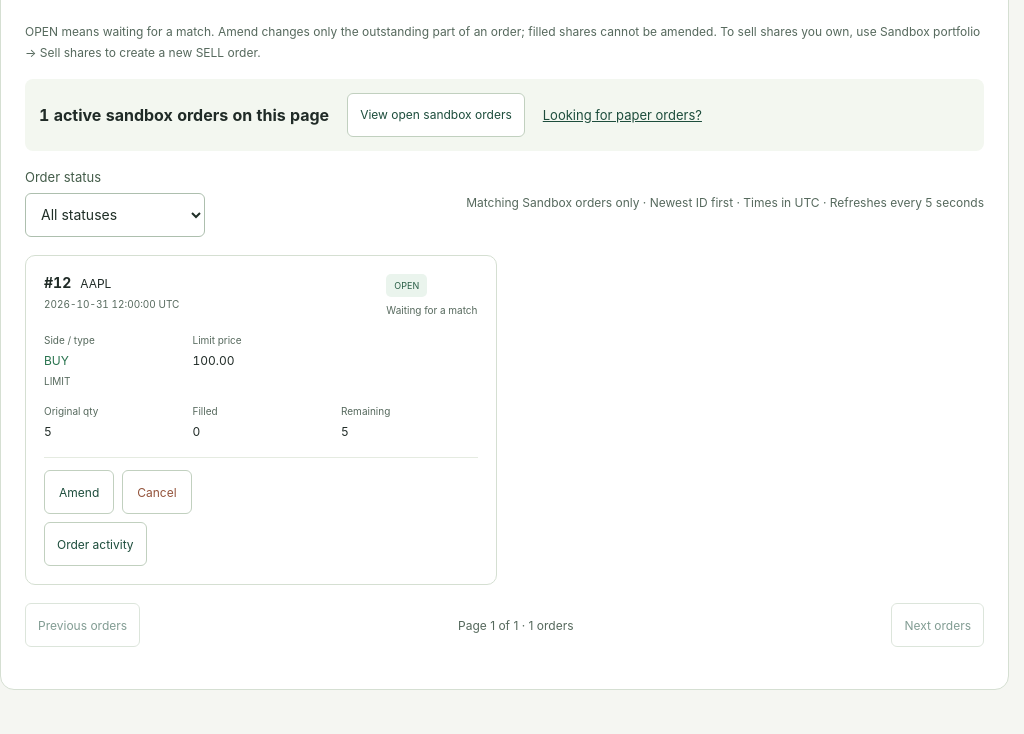
Test: amends remaining quantity, then reloads history and market data
(page scrolled)
Click the button with aria-label "Amend #12" at (79, 492), box [44,470,114,514]
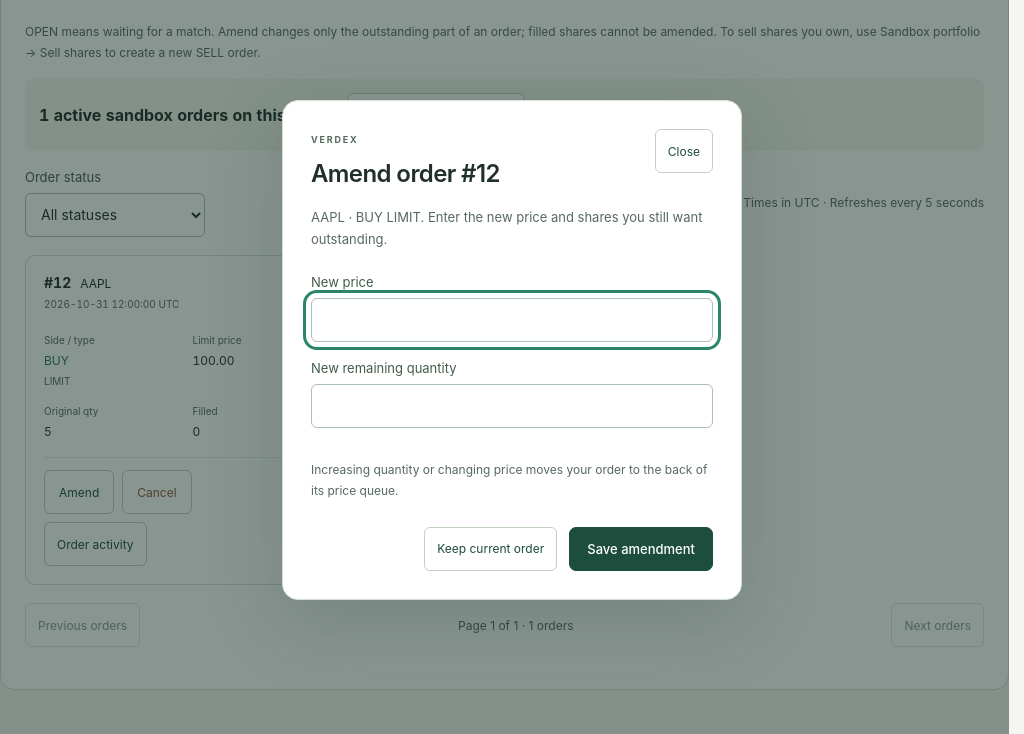
Type "101.25" into the field labelled "New price" at (512, 320), box [311,298,713,342]
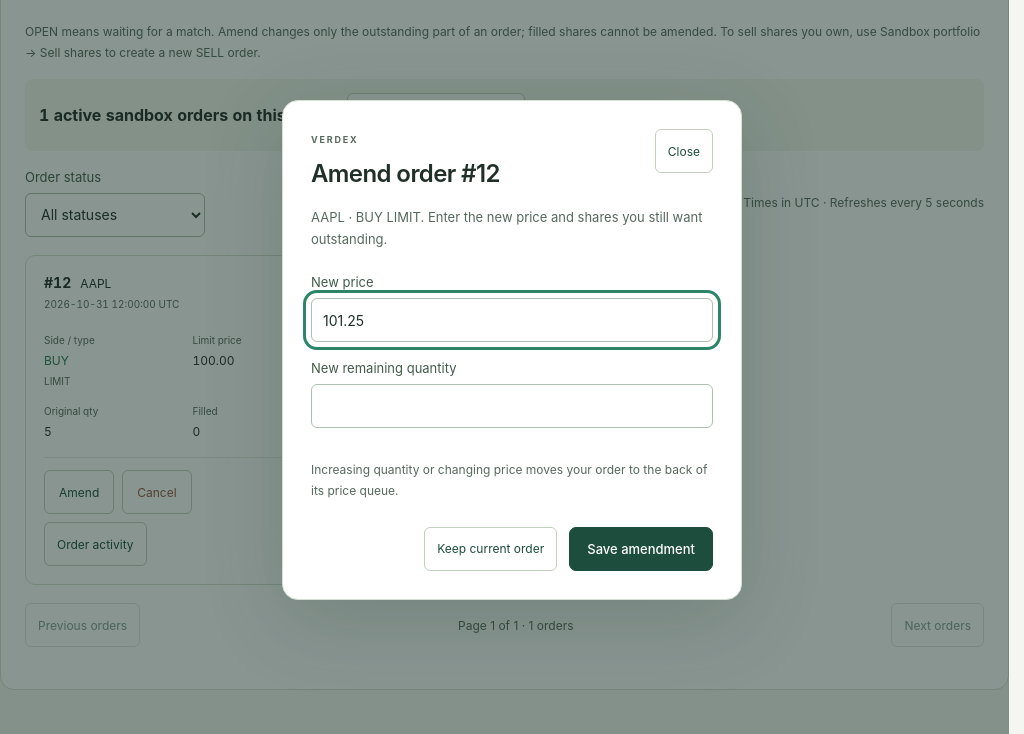
Type "3" into the field labelled "New remaining quantity" at (512, 406), box [311,384,713,428]
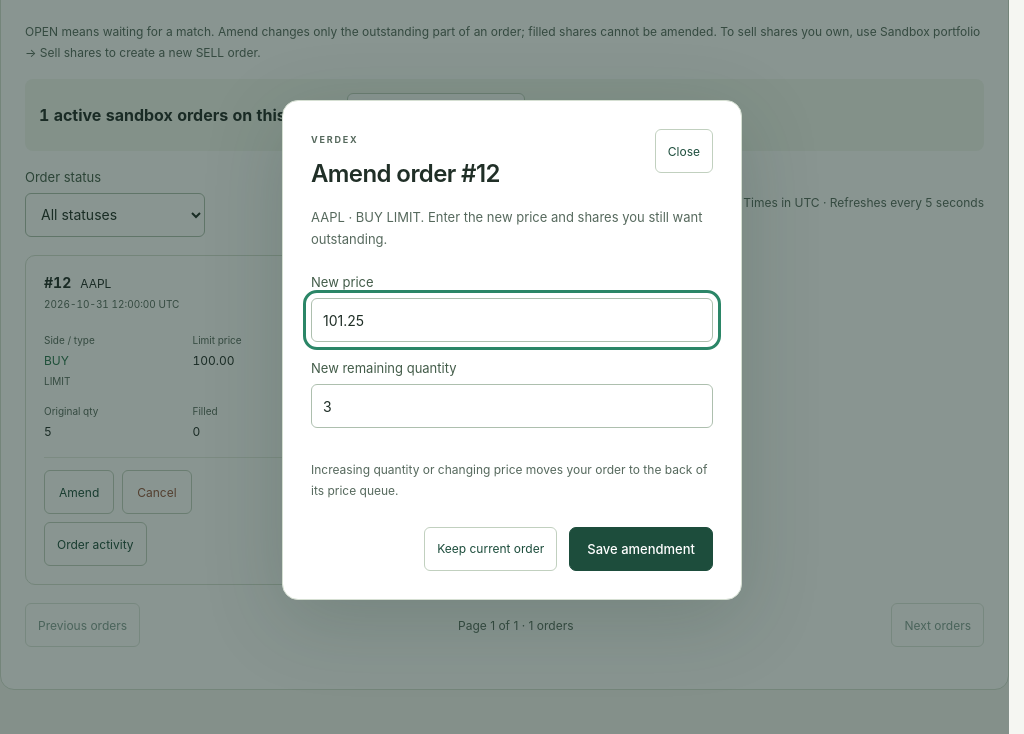
Click the button with aria-label "Save amendment #12" at (641, 549), box [569,527,713,571]
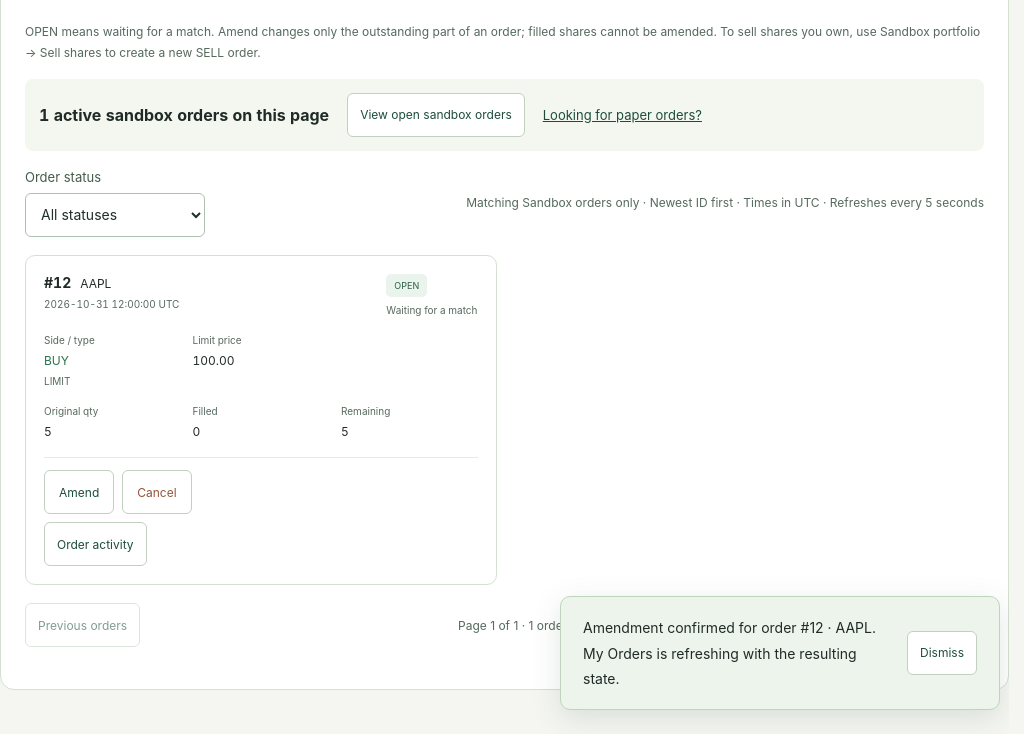
Now the text "Amendment confirmed for order #12" is shown, box [583,619,876,687]
